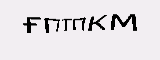Е: (57, 17, 71, 52)
Л: (27, 22, 41, 45)
С: (71, 9, 99, 51)
Т: (98, 10, 134, 49)
Щ: (39, 21, 56, 49)
